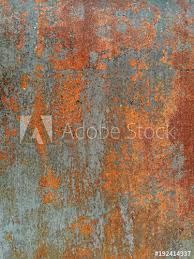rust: (2, 1, 193, 259)
